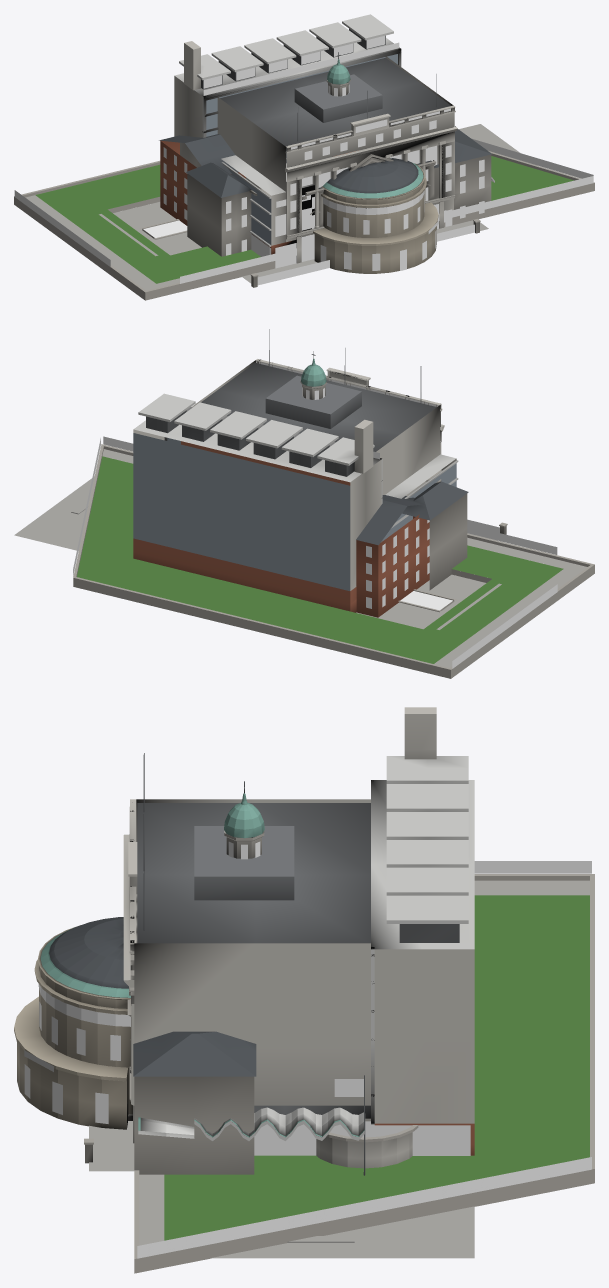
The model's file is northcity.glb.
3 renders of one model, top to bottom at view 1: azimuth 30°, elevation 25°; view 2: azimuth 150°, elevation 25°; view 3: azimuth 270°, elevation 25°, orthographic. The views are drawn at different scales.
Parts seen in each view (by area): view 1: clerys_stone, garden_lawn, clerys_metal, busaras_conc, ambassador_render, rotunda_granite, garden_granite, garden_atlas, garden_pave, busaras_atlas, rotunda_slate, busaras_stone (+11 smaller); view 2: busaras_curtain, garden_lawn, clerys_metal, busaras_conc, garden_granite, garden_pave, busaras_brick, rotunda_brick, clerys_stone, busaras_stone, rotunda_granite, garden_atlas (+6 smaller); view 3: garden_lawn, clerys_stone, clerys_metal, busaras_conc, busaras_stone, ambassador_render, rotunda_granite, garden_granite, garden_atlas, busaras_pave, rotunda_slate, ambassador_slate (+8 smaller).
Boxes of the visible parts, <box> form: clerys_stone: <box>217,56,457,263</box>; garden_lawn: <box>35,156,573,283</box>; clerys_metal: <box>220,58,450,146</box>; busaras_conc: <box>174,14,494,246</box>; ambassador_render: <box>313,163,438,273</box>; rotunda_granite: <box>187,79,491,287</box>; garden_granite: <box>14,151,594,300</box>; garden_atlas: <box>14,139,593,283</box>; garden_pave: <box>25,195,201,290</box>; busaras_atlas: <box>203,36,399,268</box>; rotunda_slate: <box>159,129,491,197</box>; busaras_stone: <box>174,41,314,245</box>; busaras_curtain: <box>133,433,456,590</box>; garden_lawn: <box>77,456,563,663</box>; clerys_metal: <box>201,329,436,451</box>; busaras_conc: <box>133,393,458,541</box>; garden_granite: <box>73,444,594,678</box>; garden_pave: <box>102,449,587,667</box>; busaras_brick: <box>133,538,356,612</box>; rotunda_brick: <box>356,514,429,617</box>; clerys_stone: <box>192,359,444,495</box>; busaras_stone: <box>133,419,456,590</box>; rotunda_granite: <box>300,380,507,590</box>; garden_atlas: <box>73,436,557,668</box>; garden_lawn: <box>164,895,589,1240</box>; clerys_stone: <box>123,799,370,1143</box>; clerys_metal: <box>137,753,370,943</box>; busaras_conc: <box>138,756,474,1140</box>; busaras_stone: <box>374,707,474,1123</box>; ambassador_render: <box>14,925,132,1129</box>; rotunda_granite: <box>84,831,264,1174</box>; garden_granite: <box>134,874,594,1273</box>; garden_atlas: <box>137,861,591,1258</box>; busaras_pave: <box>211,1206,474,1258</box>; rotunda_slate: <box>133,1031,256,1076</box>; ambassador_slate: <box>49,917,130,988</box>.
Bounding box in the file's own units: 91.05 × 33 × 58.
